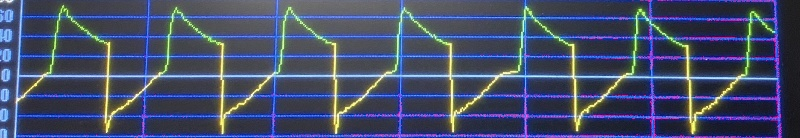normal_flow: (20, 0, 742, 138)
